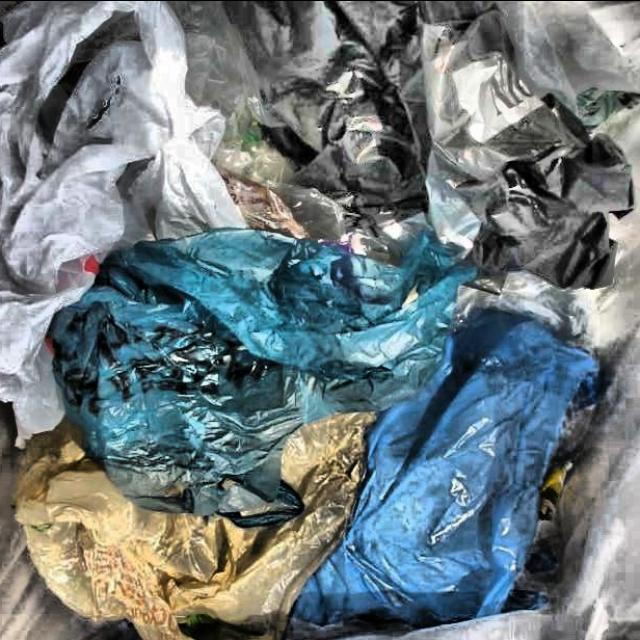plastik: (51, 228, 475, 526), (0, 0, 245, 441), (317, 327, 640, 640), (293, 310, 597, 625), (15, 412, 375, 640), (419, 0, 640, 347), (169, 0, 428, 254), (497, 0, 640, 111)
